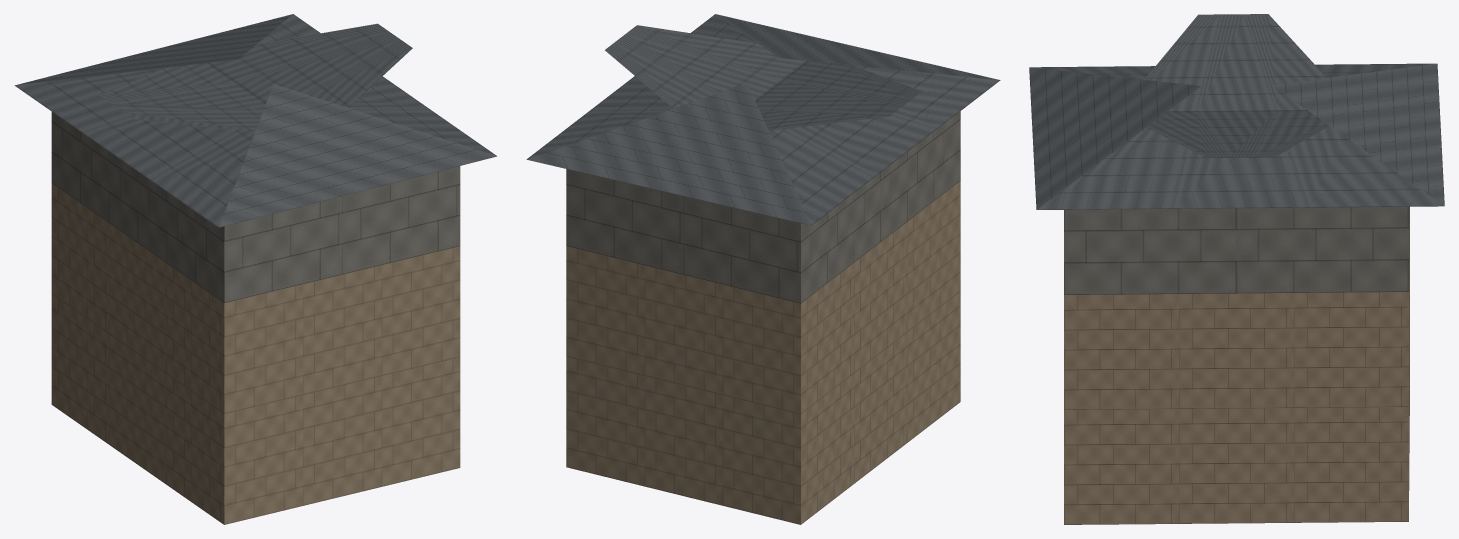
The model's file is bld_c15_11_514.gltf.
3 renders of one model, left to right at view 1: azimuth 30°, elevation 25°; view 2: azimuth 150°, elevation 25°; view 3: azimuth 270°, elevation 25°, orthographic. The views are drawn at different scales.
Parts seen in each view (by area): view 1: bld_c15_11_514; view 2: bld_c15_11_514; view 3: bld_c15_11_514.
Part boxes in pixels (x1=…): bld_c15_11_514: x1=14, y1=14, x2=496, y2=524; bld_c15_11_514: x1=526, y1=14, x2=1000, y2=524; bld_c15_11_514: x1=1029, y1=14, x2=1444, y2=524.
Bounding box in the file's own units: 6.15 × 7.4 × 7.37.
Materials: 3 (3 with a texture image).
